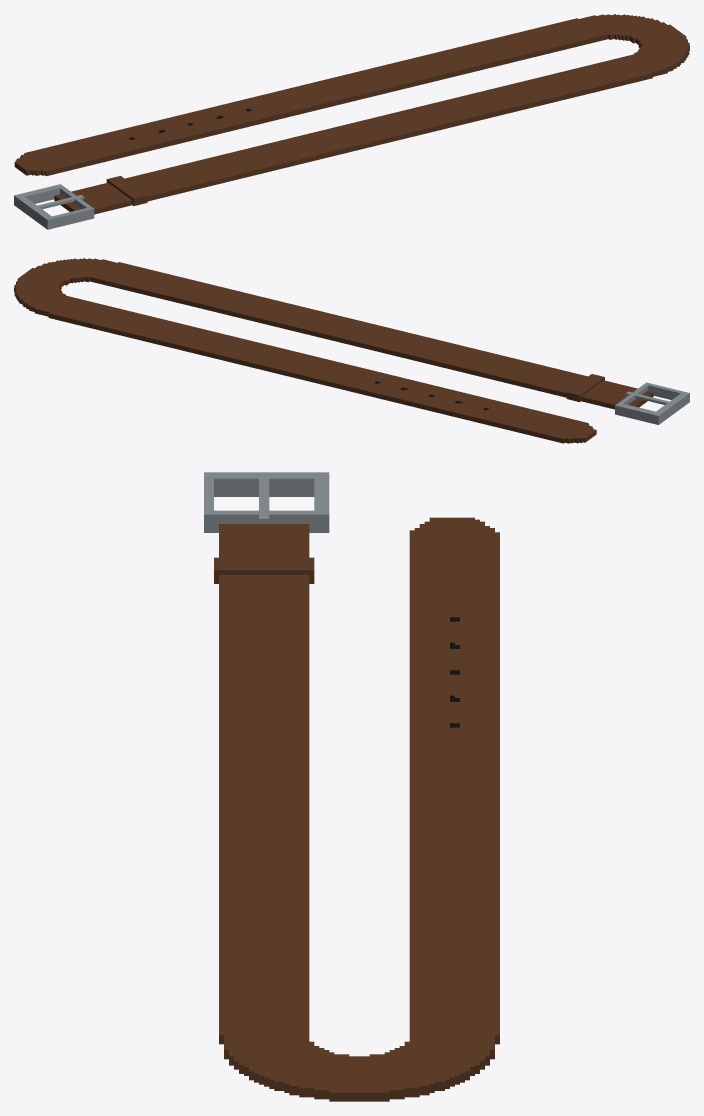
Rendered from leather_belt.glb.
3 renders of one model, top to bottom at view 1: azimuth 30°, elevation 25°; view 2: azimuth 150°, elevation 25°; view 3: azimuth 270°, elevation 25°, orthographic. The views are drawn at different scales.
Parts seen in each view (by area): view 1: leather_belt:compound; view 2: leather_belt:compound; view 3: leather_belt:compound.
Boxes of the visible parts, x1=… form: leather_belt:compound: x1=14, y1=14, x2=689, y2=229; leather_belt:compound: x1=14, y1=258, x2=689, y2=443; leather_belt:compound: x1=204, y1=472, x2=499, y2=1101.
Size of the model in its own units: 0.576 by 0.008 by 0.118.
